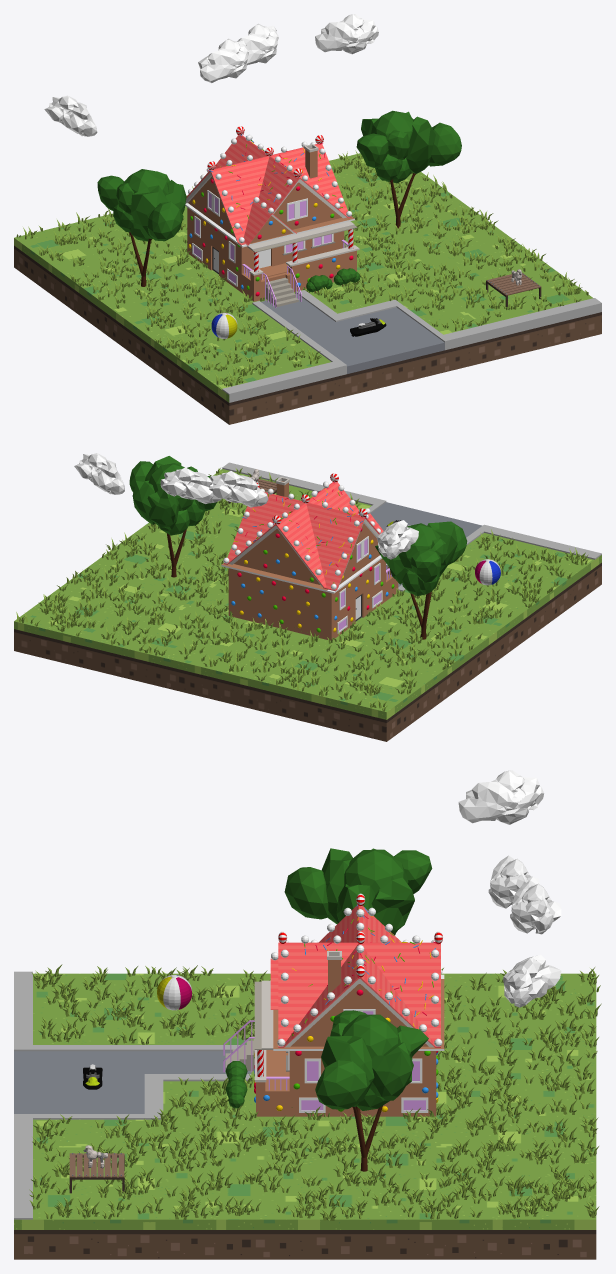
The picture shows the model from 3 angles, top to bottom: view 1: azimuth 30°, elevation 25°; view 2: azimuth 150°, elevation 25°; view 3: azimuth 270°, elevation 25°; orthographic projection. The views are drawn at different scales.
Visible parts, largest first — view 1: Cube.006, Cube.1203, Circle.012_Grass_0.192, Cube.007, tree, tree.001, Cube.009, OBJRANDOM_BEACHBALL; view 2: Cube.006, Cube.1203, Circle.012_Grass_0.192, Cube.007, tree.001, tree, OBJRANDOM_BEACHBALL; view 3: Cube.006, Circle.012_Grass_0.192, Cube.1203, tree, Cube.007, tree.001, Cube.009, OBJRANDOM_BEACHBALL.
Part boxes in pixels (x1,y1,x2,y2): Cube.006: (14, 153, 601, 424); Cube.1203: (185, 126, 359, 307); Circle.012_Grass_0.192: (16, 150, 588, 386); Cube.007: (44, 14, 378, 136); tree: (356, 110, 461, 228); tree.001: (97, 169, 186, 286); Cube.009: (486, 272, 541, 306); OBJRANDOM_BEACHBALL: (211, 312, 237, 338); Cube.006: (14, 462, 601, 741); Cube.1203: (221, 473, 398, 640); Circle.012_Grass_0.192: (16, 468, 588, 711); Cube.007: (74, 453, 418, 559); tree.001: (375, 521, 467, 639); tree: (129, 456, 216, 577); OBJRANDOM_BEACHBALL: (475, 559, 500, 585); Cube.006: (14, 971, 596, 1259); Circle.012_Grass_0.192: (29, 964, 601, 1220); Cube.1203: (223, 893, 444, 1116); tree: (315, 1010, 428, 1171); Cube.007: (458, 770, 561, 1007); tree.001: (284, 848, 432, 935); Cube.009: (69, 1153, 124, 1193); OBJRANDOM_BEACHBALL: (157, 975, 191, 1010).
Bounding box in the file's own units: 4071 × 2277 × 4040.
36 materials, 4 textured.
